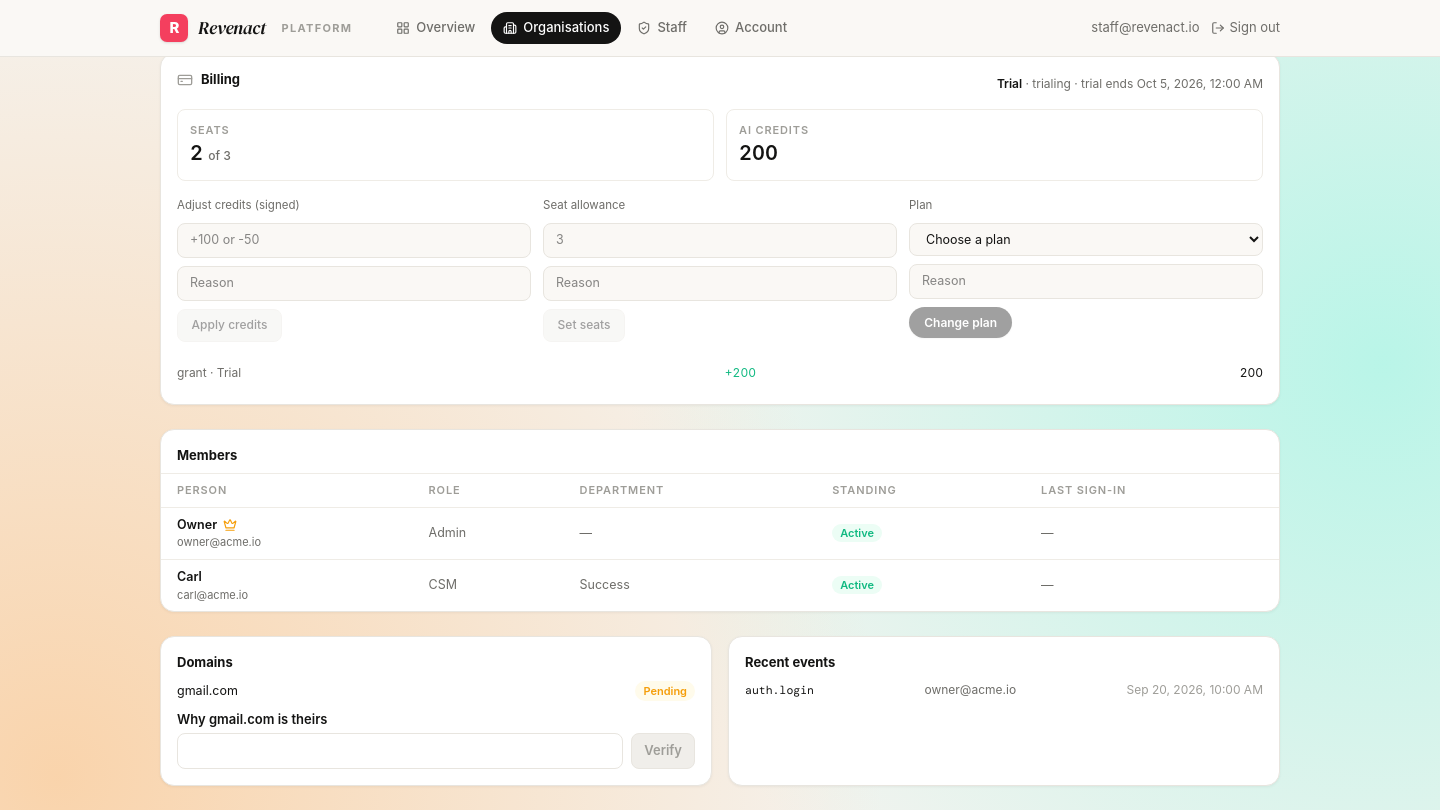
Scenario: Platform portal › shows why a domain cannot be verified, in the backend’s words
(page scrolled)
In the field labelled "Why gmail.com is theirs": (400, 751) x1=177 y1=733 x2=623 y2=769, type "x"
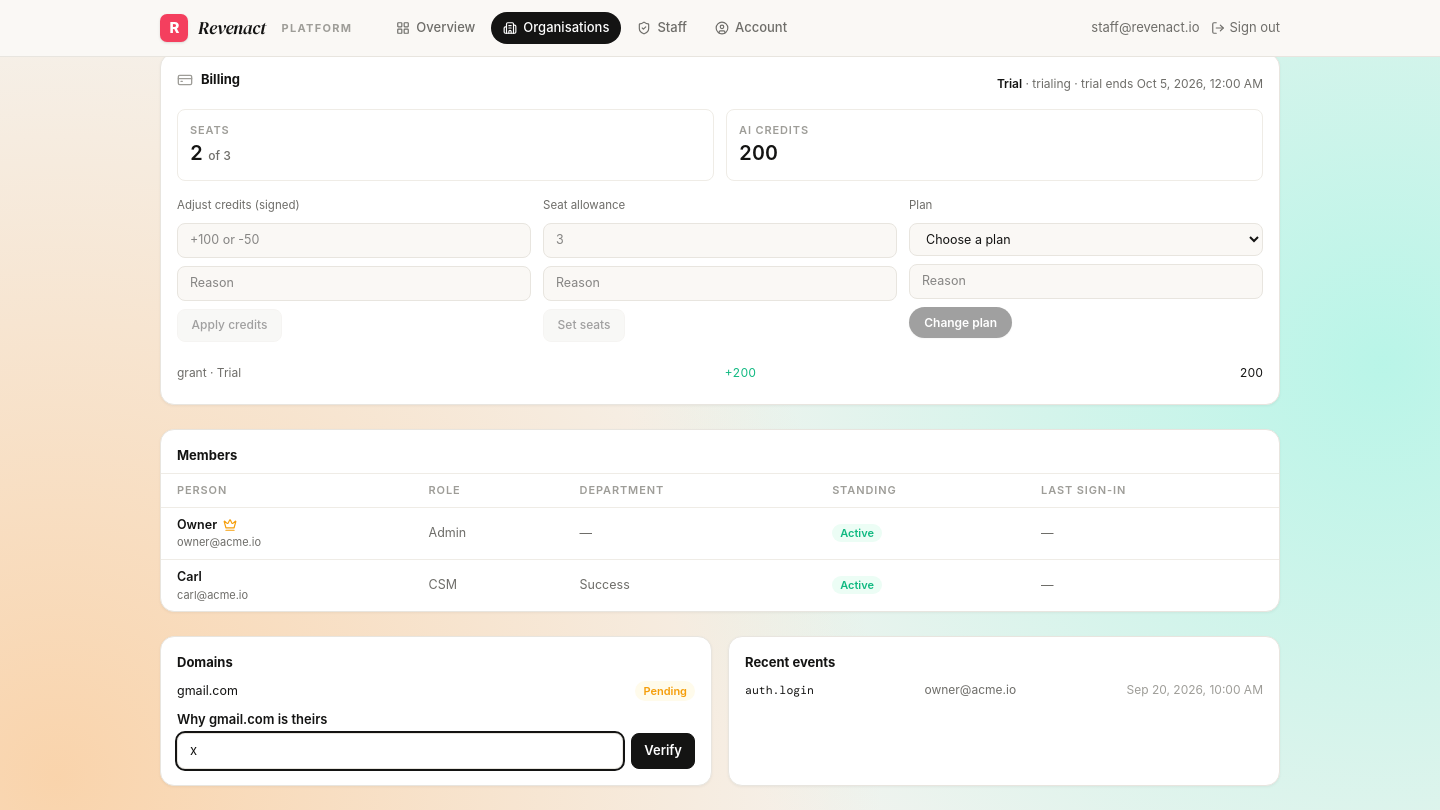
Click the button with aria-label "Verify gmail.com": (663, 751) x1=631 y1=733 x2=695 y2=769
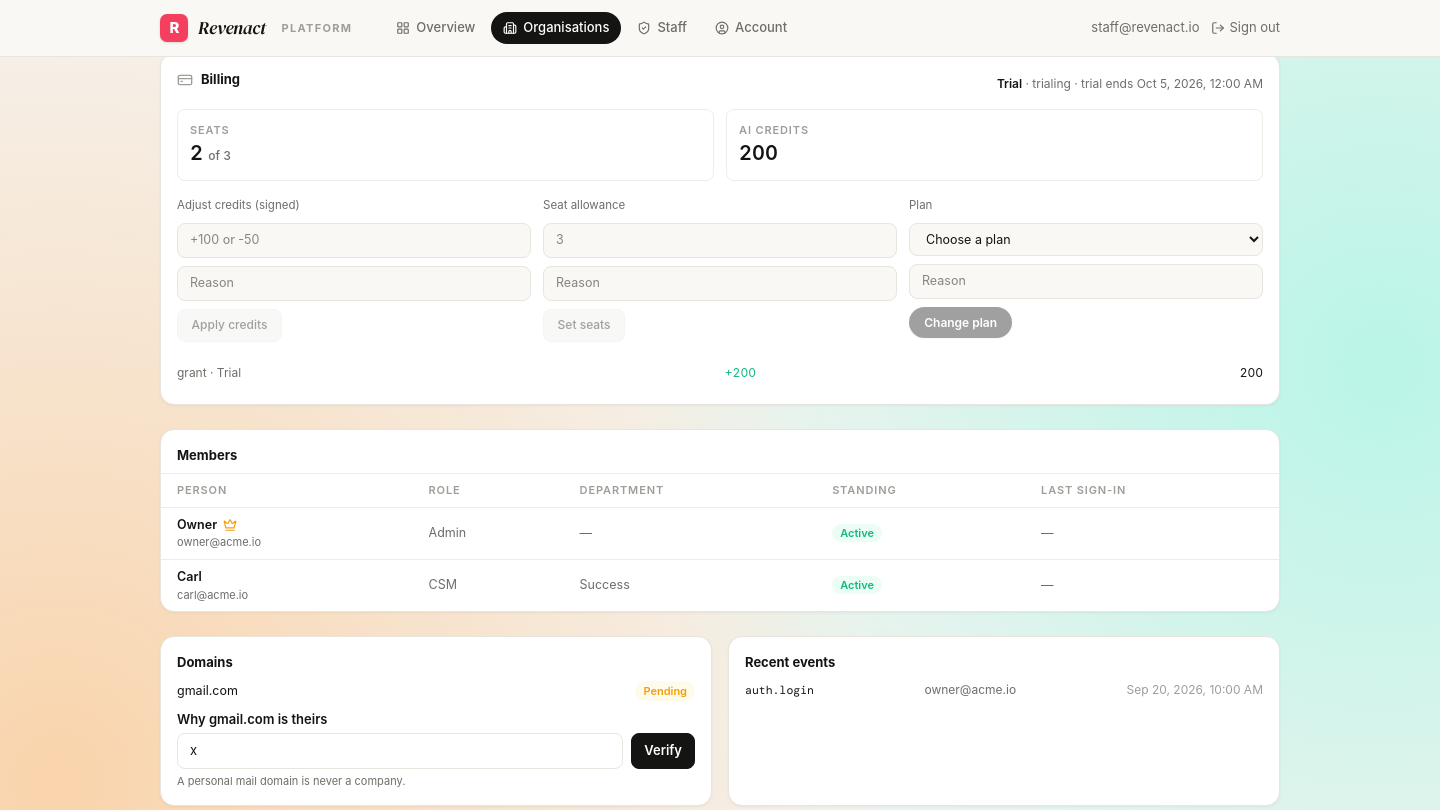
Expected: the message reads "A personal mail domain is never a company.", x1=177 y1=774 x2=405 y2=788
